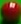red: (0, 0, 21, 24)
